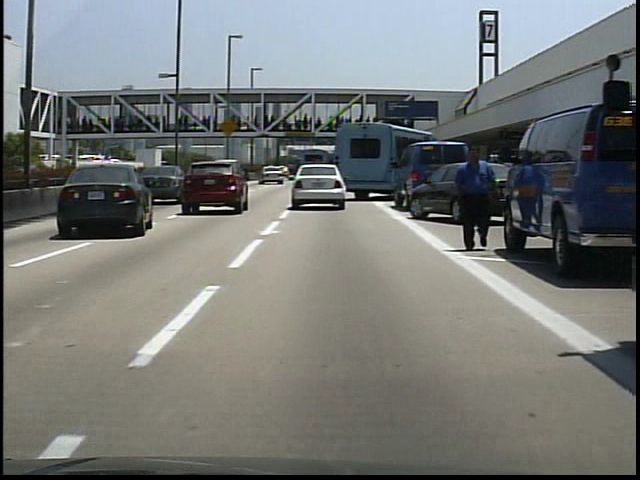person: (449, 147, 498, 251)
